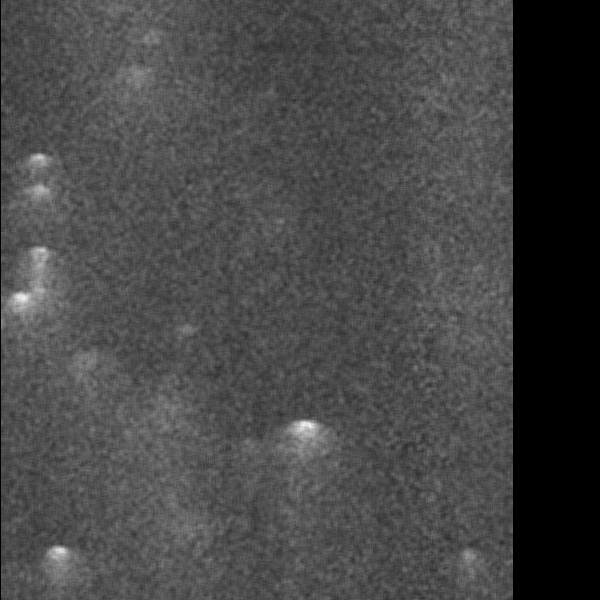spark: (475, 190, 516, 228)
